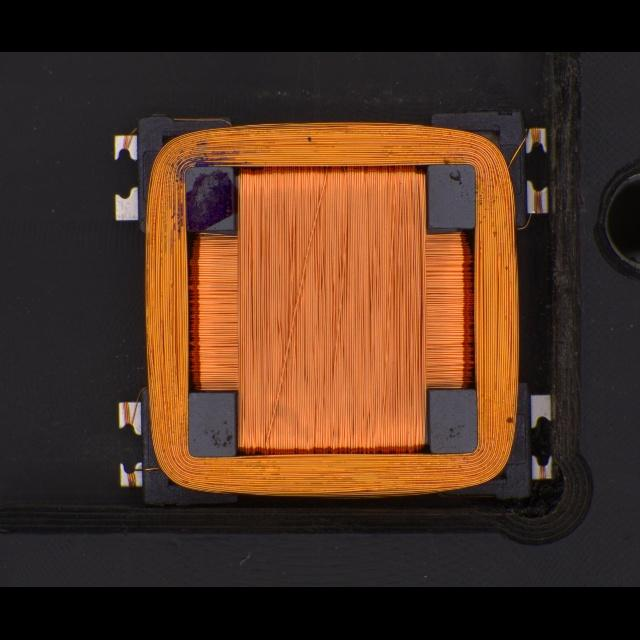Winding_Z: (135, 115, 527, 502)
